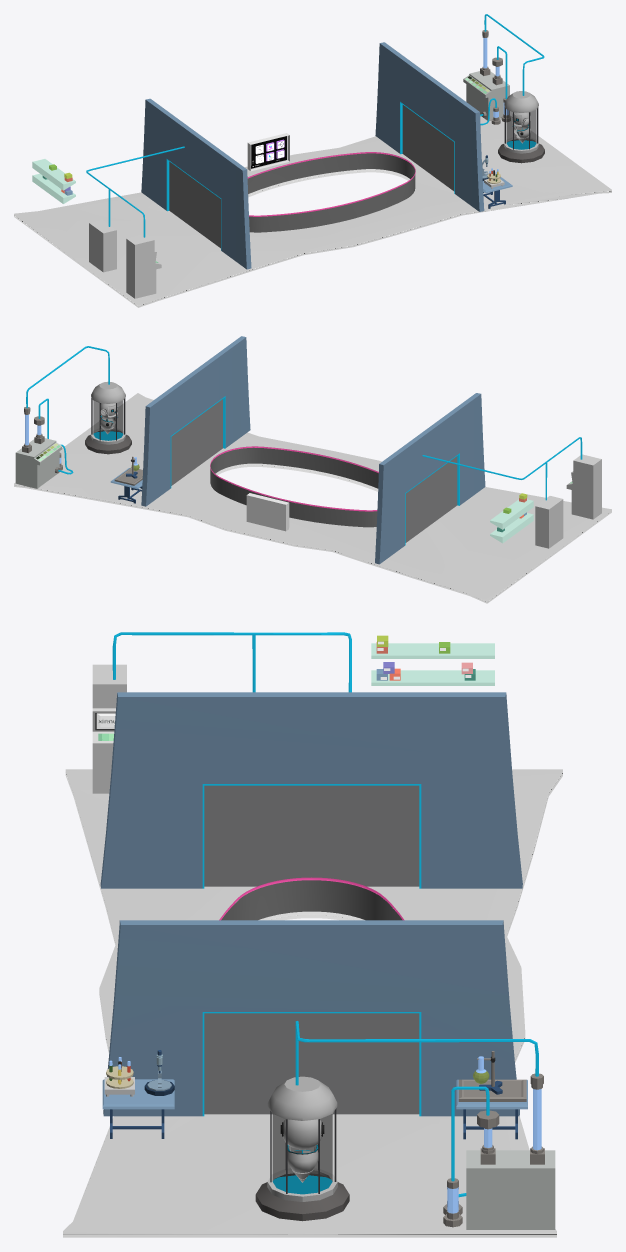
The model's file is P02_XINNUX.glb.
3 renders of one model, top to bottom at view 1: azimuth 30°, elevation 25°; view 2: azimuth 150°, elevation 25°; view 3: azimuth 270°, elevation 25°, orthographic. The views are drawn at different scales.
Visible parts, largest first — view 1: p02_floor, p02_wallint_002, p02_wallint_002.001, p02_railing_002, xinnux_lab_der_capsula00, xinnux_lab_izq_maquina01, p02_door_002, p02_door_004, xinnux_lab_der_energia.005, p02_door_001, xinnux_lab_izq_maquina02, p02_door_005 (+5 smaller); view 2: p02_floor, p02_wallint_002, p02_wallint_002.001, p02_railing_002, xinnux_lab_der_capsula00, xinnux_lab_izq_maquina01, xinnux_lab_der_energia.005, p02_door_005, p02_door_001, xinnux_lab_izq_maquina02, p02_buttons_02, p02_door_002 (+5 smaller); view 3: p02_floor, p02_wallint_002, p02_wallint_002.001, p02_door_004, p02_door_005, p02_door_002, p02_door_001, xinnux_lab_der_capsula00, xinnux_lab_der_energia.005, p02_railing_002, xinnux_lab_izq_repisa, xinnux_lab_izq_maquina01 (+9 smaller).
Part boxes in pixels (x1,y1,x2,y2): p02_floor: (14, 115, 611, 307); p02_wallint_002: (141, 98, 251, 269); p02_wallint_002.001: (375, 42, 484, 211); p02_railing_002: (247, 153, 415, 232); xinnux_lab_der_capsula00: (498, 91, 544, 163); xinnux_lab_izq_maquina01: (126, 234, 161, 298); p02_door_002: (402, 105, 429, 173); p02_door_004: (169, 161, 196, 229); xinnux_lab_der_energia.005: (463, 71, 509, 121); p02_door_001: (429, 124, 454, 191); xinnux_lab_izq_maquina02: (89, 219, 116, 272); p02_door_005: (196, 181, 220, 248); p02_floor: (14, 393, 611, 603); p02_wallint_002: (375, 393, 485, 564); p02_wallint_002.001: (141, 336, 250, 506); p02_railing_002: (210, 447, 378, 527); xinnux_lab_der_capsula00: (85, 381, 131, 454); xinnux_lab_izq_maquina01: (566, 454, 601, 519); xinnux_lab_der_energia.005: (15, 438, 62, 488); p02_door_005: (430, 456, 457, 524); p02_door_001: (196, 399, 222, 467); xinnux_lab_izq_maquina02: (535, 496, 563, 548); p02_buttons_02: (246, 493, 289, 531); p02_door_002: (171, 419, 196, 485); p02_floor: (63, 769, 562, 1237); p02_wallint_002: (100, 692, 522, 888); p02_wallint_002.001: (103, 920, 519, 1116); p02_door_004: (312, 785, 419, 886); p02_door_005: (204, 785, 311, 886); p02_door_002: (312, 1013, 419, 1114); p02_door_001: (204, 1013, 311, 1114); xinnux_lab_der_capsula00: (255, 1076, 349, 1221); xinnux_lab_der_energia.005: (466, 1150, 555, 1229); p02_railing_002: (221, 880, 402, 920); xinnux_lab_izq_repisa: (371, 635, 494, 685); xinnux_lab_izq_maquina01: (92, 664, 126, 793).
Size of what is drawn, in the model's own units: 28.12 by 5.63 by 12.87.
Materials: 14 (14 with a texture image).
